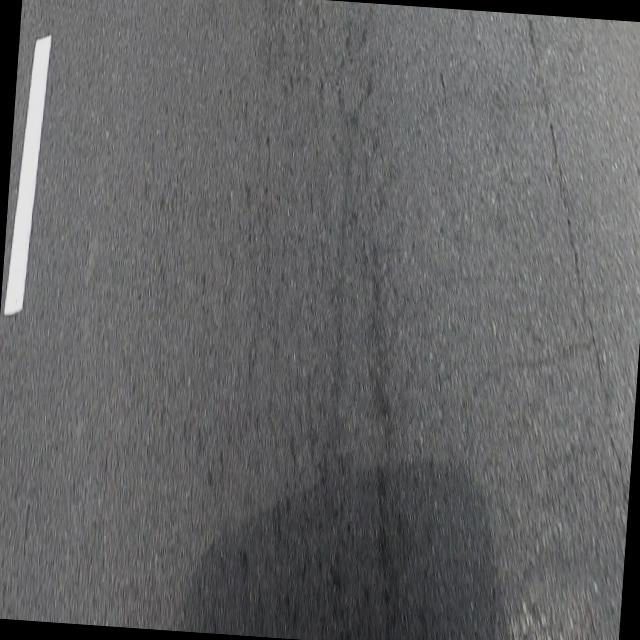Retak-Memanjang: (523, 14, 602, 401)
